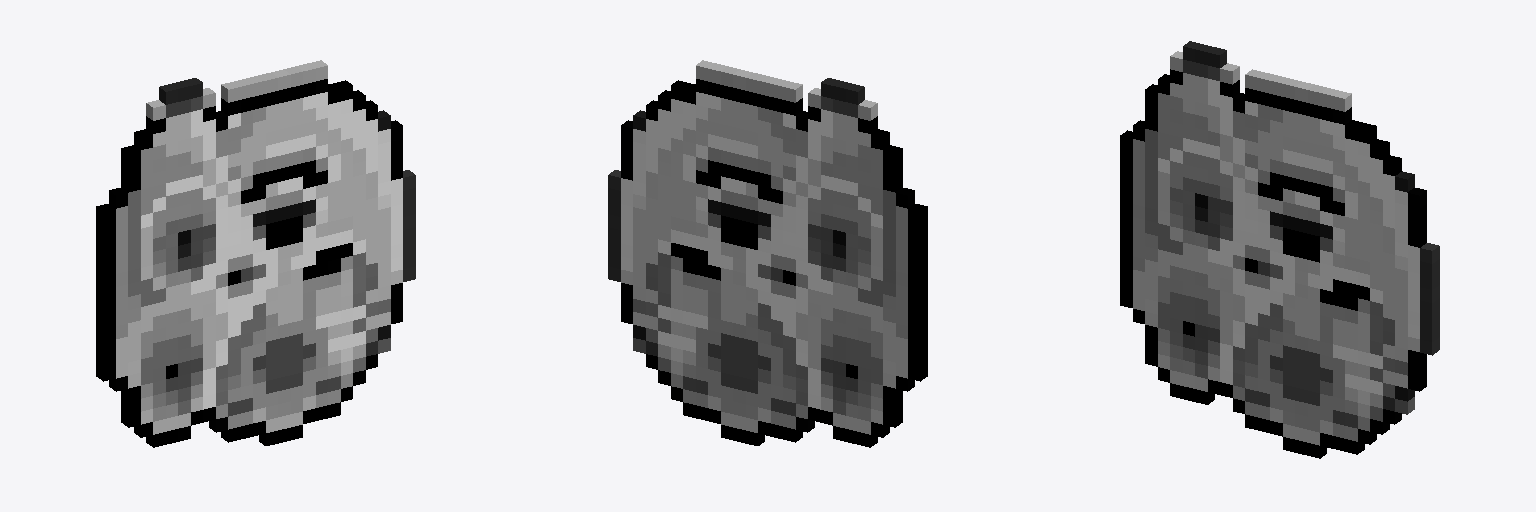
The model's file is akaku.obj.
3 renders of one model, left to right at view 1: azimuth 30°, elevation 25°; view 2: azimuth 150°, elevation 25°; view 3: azimuth 330°, elevation 25°, orthographic.
Bounding box in the file's own units: 25 × 29 × 1.